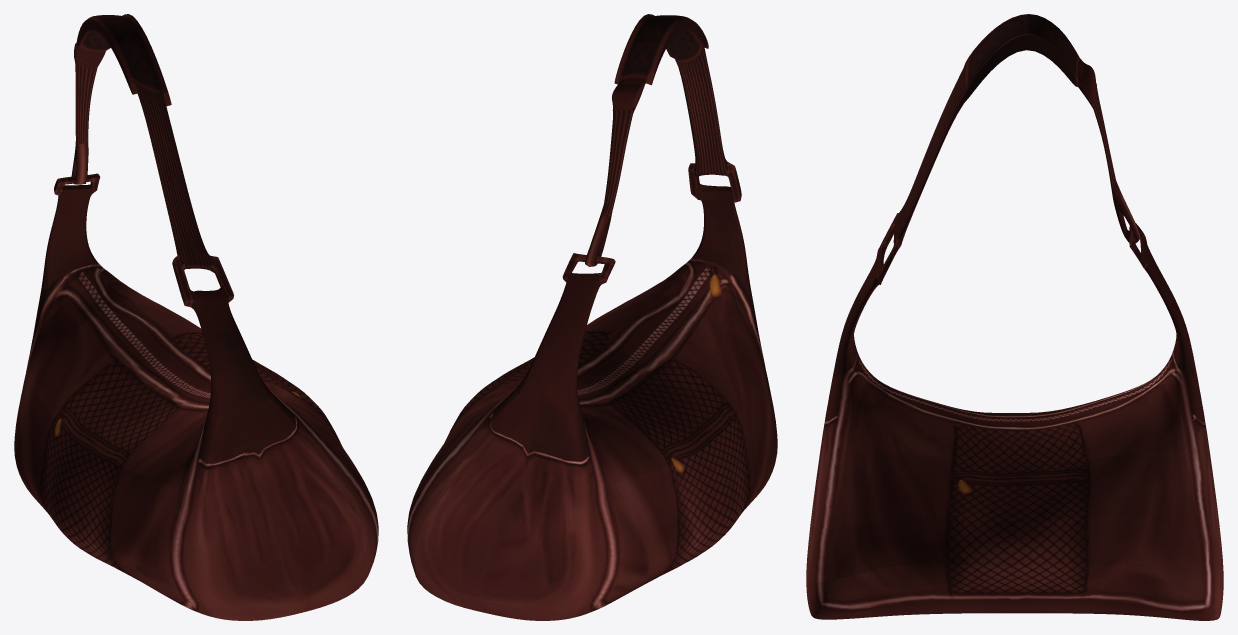
Rendered from handbag.glb.
3 renders of one model, left to right at view 1: azimuth 30°, elevation 25°; view 2: azimuth 150°, elevation 25°; view 3: azimuth 270°, elevation 25°, orthographic.
Parts seen in each view (by area): view 1: _10140_GymBag_v01; view 2: _10140_GymBag_v01; view 3: _10140_GymBag_v01.
Part boxes in pixels (bbox=[...]): _10140_GymBag_v01: bbox=[14, 14, 378, 620]; _10140_GymBag_v01: bbox=[407, 14, 777, 620]; _10140_GymBag_v01: bbox=[806, 14, 1223, 620].
Bounding box in the file's own units: 33.59 × 70.79 × 48.95.
1 material, 1 textured.
